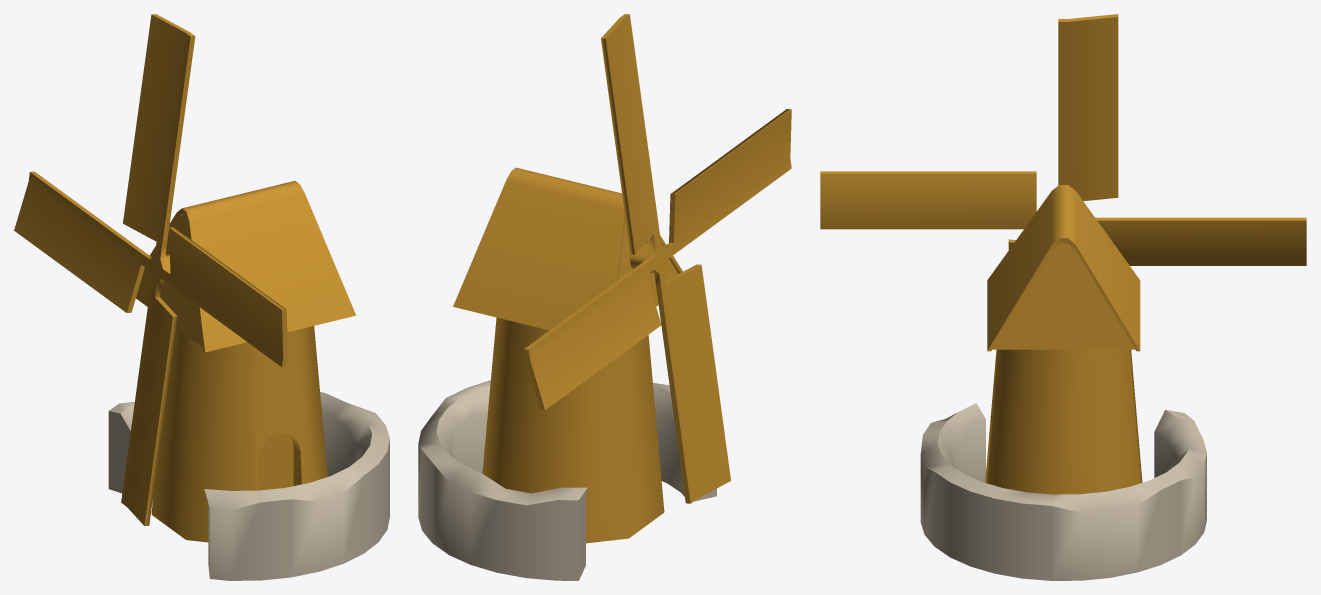
The model's file is Windmill.fbx.
3 views of the same model, side by side, from view 1: azimuth 30°, elevation 25°; view 2: azimuth 150°, elevation 25°; view 3: azimuth 270°, elevation 25° (orthographic). The views are drawn at different scales.
Parts seen in each view (by area): view 1: Wings, Base, torus, Top; view 2: Wings, Base, torus, Top; view 3: Wings, torus, Base, Top.
Part boxes in pixels (<box>): Wings: <box>14,14,287,526</box>; Base: <box>151,326,327,542</box>; torus: <box>108,391,389,580</box>; Top: <box>136,181,355,352</box>; Wings: <box>524,14,791,503</box>; Base: <box>482,317,664,543</box>; torus: <box>418,380,716,580</box>; Top: <box>453,167,682,330</box>; Wings: <box>820,14,1306,265</box>; torus: <box>920,403,1206,580</box>; Base: <box>985,349,1142,494</box>; Top: <box>987,185,1140,351</box>.
Bounding box in the file's own units: 4.88 × 9.14 × 8.44.
